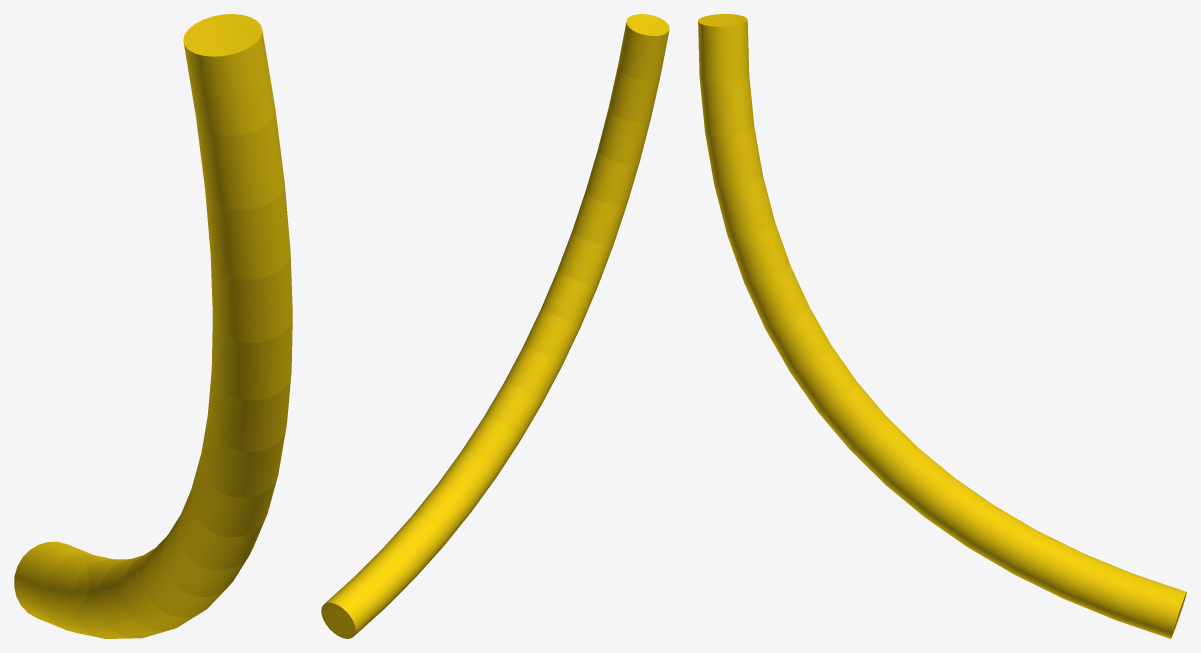
Rendered from Event_421115418_track_121.fbx.
The picture shows the model from 3 angles, left to right: view 1: azimuth 30°, elevation 25°; view 2: azimuth 150°, elevation 25°; view 3: azimuth 270°, elevation 25°; orthographic projection. The views are drawn at different scales.
Visible parts, largest first — view 1: Model; view 2: Model; view 3: Model.
Boxes of the visible parts, box(x1,y1,x2,y2) form: Model: box(14, 14, 292, 638); Model: box(321, 14, 669, 638); Model: box(698, 14, 1186, 638).
Bounding box in the file's own units: 0.1525 × 0.4985 × 0.3934.
